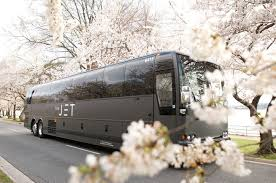bus: (23, 51, 230, 157)
